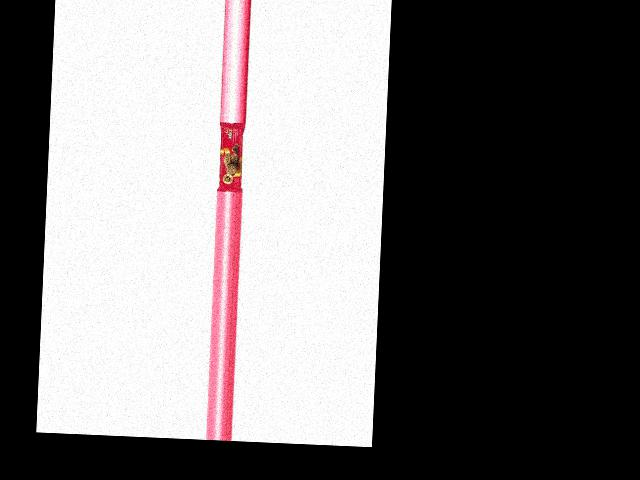chocolate: (218, 121, 247, 191)
